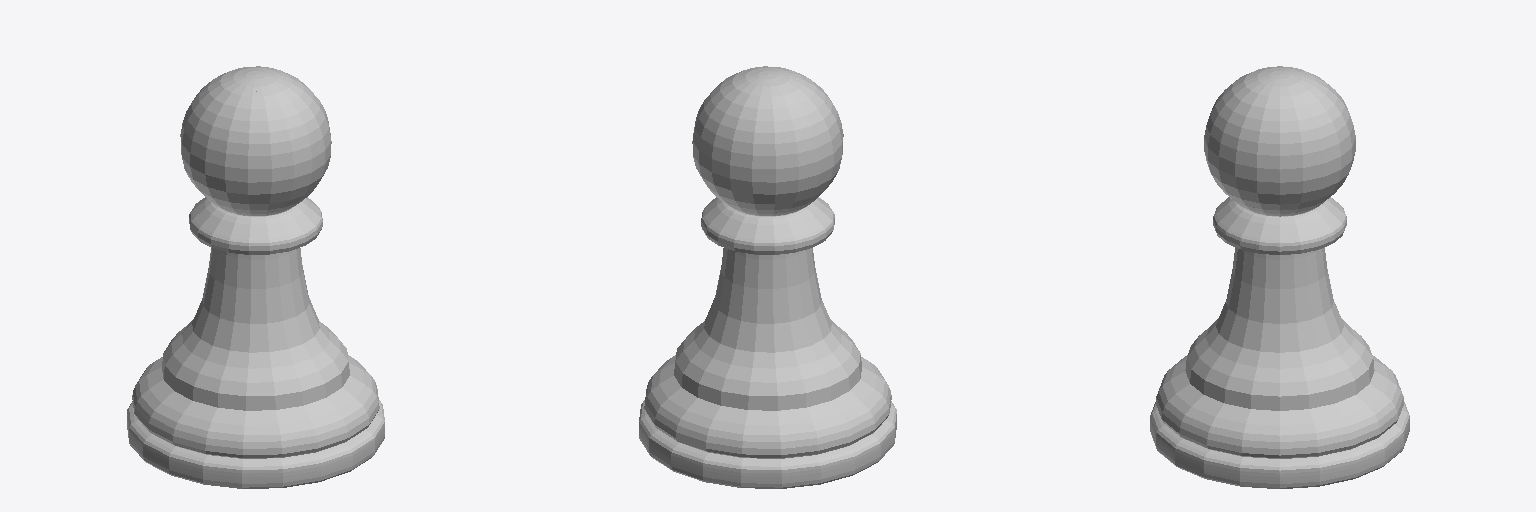
The model's file is pawn_w_4.obj.
3 renders of one model, left to right at view 1: azimuth 30°, elevation 25°; view 2: azimuth 150°, elevation 25°; view 3: azimuth 270°, elevation 25°, orthographic.
Visible parts, largest first — view 1: pawn_w_4; view 2: pawn_w_4; view 3: pawn_w_4.
Part boxes in pixels (x1,y1,x2,y2): pawn_w_4: (127,66,384,488); pawn_w_4: (639,66,896,488); pawn_w_4: (1150,66,1409,488).
Size of the model in its own units: 2.73 by 4.2 by 2.73.